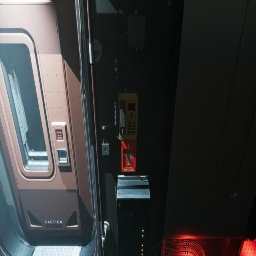EmergencyPhone ,: (114, 80, 138, 140)
FireAlarm ,: (121, 139, 137, 172)
